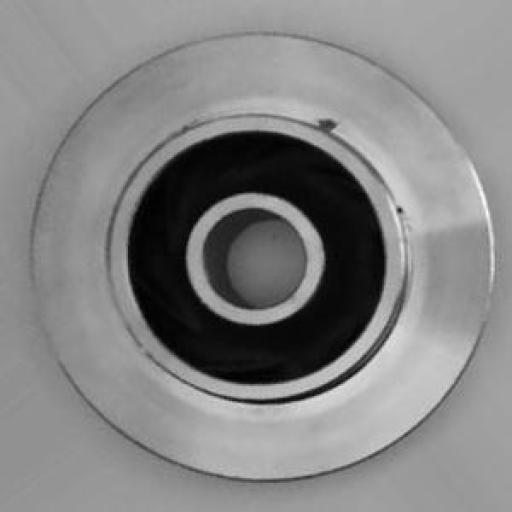defect: (307, 90, 417, 248)
